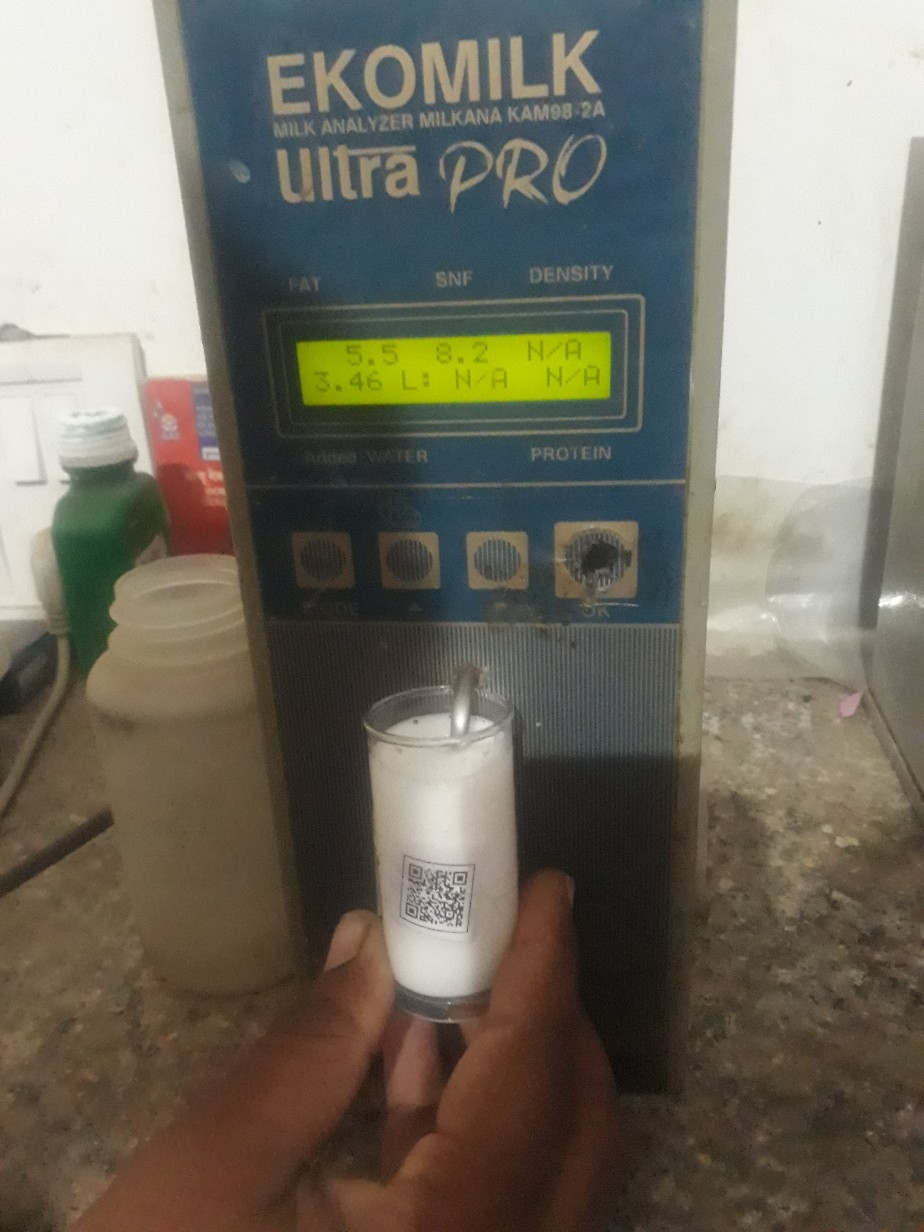lcd: (287, 316, 631, 419)
qr: (389, 844, 493, 948)
